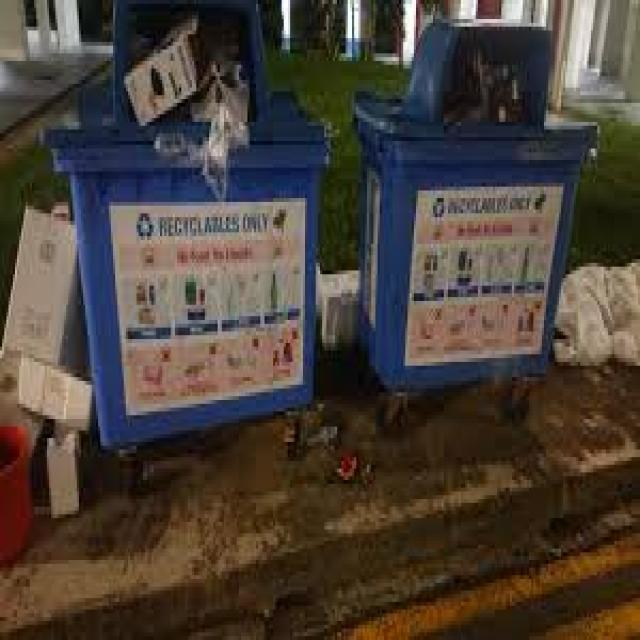bin_full: (49, 0, 335, 423), (343, 24, 598, 402)
bulk_waste: (14, 171, 91, 541), (130, 31, 248, 166), (0, 418, 37, 579), (314, 262, 362, 350)
normal_waste: (562, 252, 640, 408)
